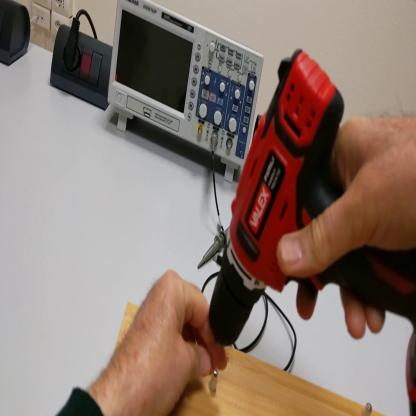electric screwdriver: (210, 48, 416, 414)
hand: (277, 111, 416, 337), (100, 275, 230, 416)
oscilloscope: (106, 1, 265, 184)
oscilloscope probe tip: (199, 217, 232, 270)
socket: (46, 23, 113, 112), (2, 3, 33, 67)
working area: (120, 301, 385, 416)
